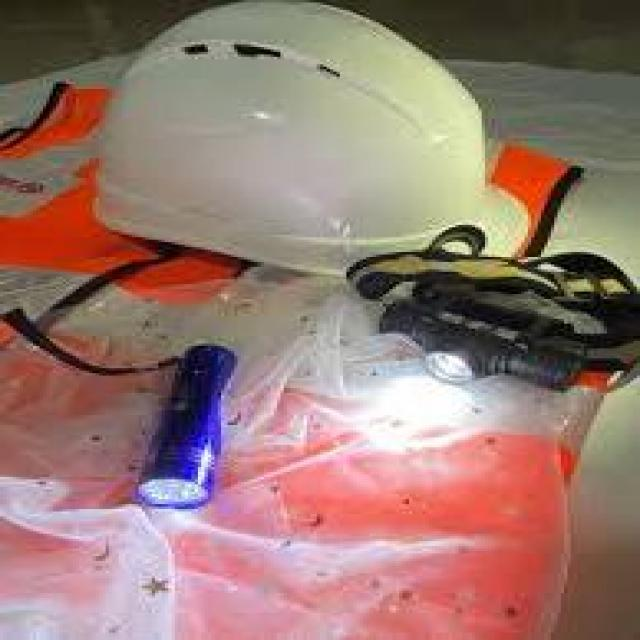Safety-Helmet: (70, 0, 568, 294)
